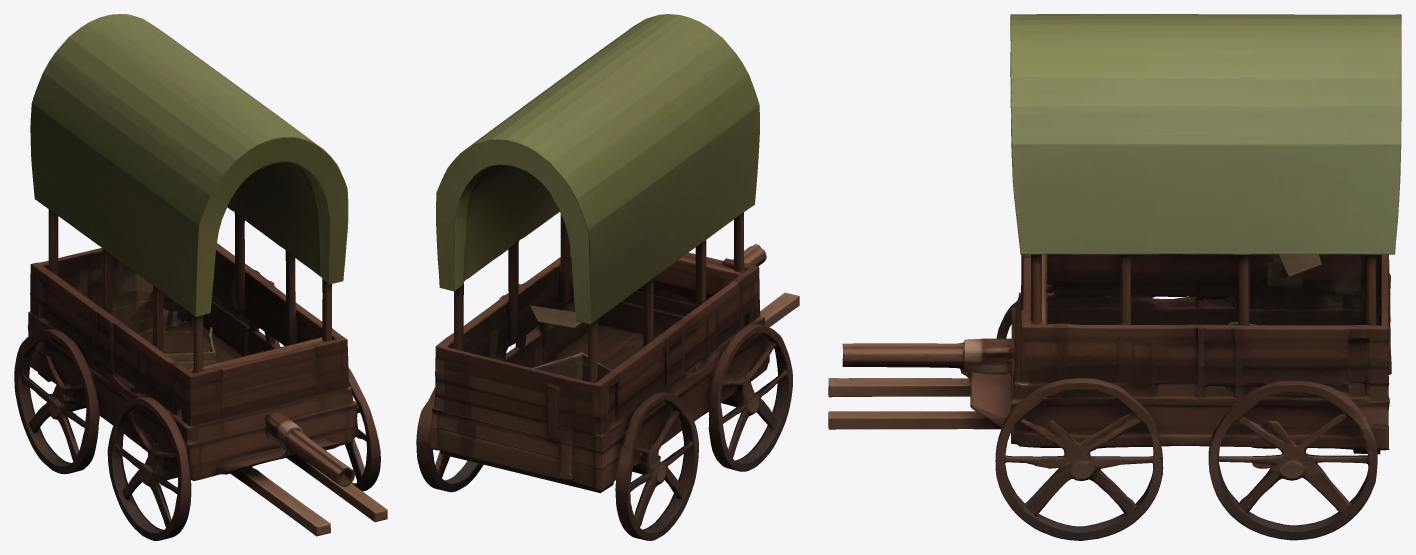
The model's file is voxhammer_t05.glb.
3 views of the same model, side by side, from view 1: azimuth 30°, elevation 25°; view 2: azimuth 150°, elevation 25°; view 3: azimuth 270°, elevation 25° (orthographic). The views are drawn at different scales.
Visible parts, largest first — view 1: geometry_0; view 2: geometry_0; view 3: geometry_0.
Part boxes in pixels (left/top/right/bottom): geometry_0: left=14, top=14, right=387, bottom=540; geometry_0: left=416, top=14, right=799, bottom=540; geometry_0: left=828, top=14, right=1401, bottom=540.
Size of the model in its own units: 0.9632 by 1.77 by 1.99.
1 material, 1 textured.
